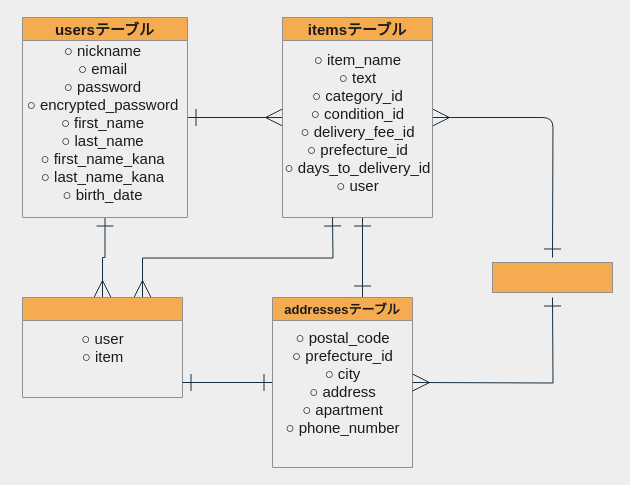
Some shapes in this 630 by 485 pixel diagram are drawn without their labels. The box of each missing label's shape, as (x1, y1, x2, y2) in pixels:
ordersテーブル: (22, 296, 182, 398)
○ prefecture_id: (492, 262, 612, 292)
